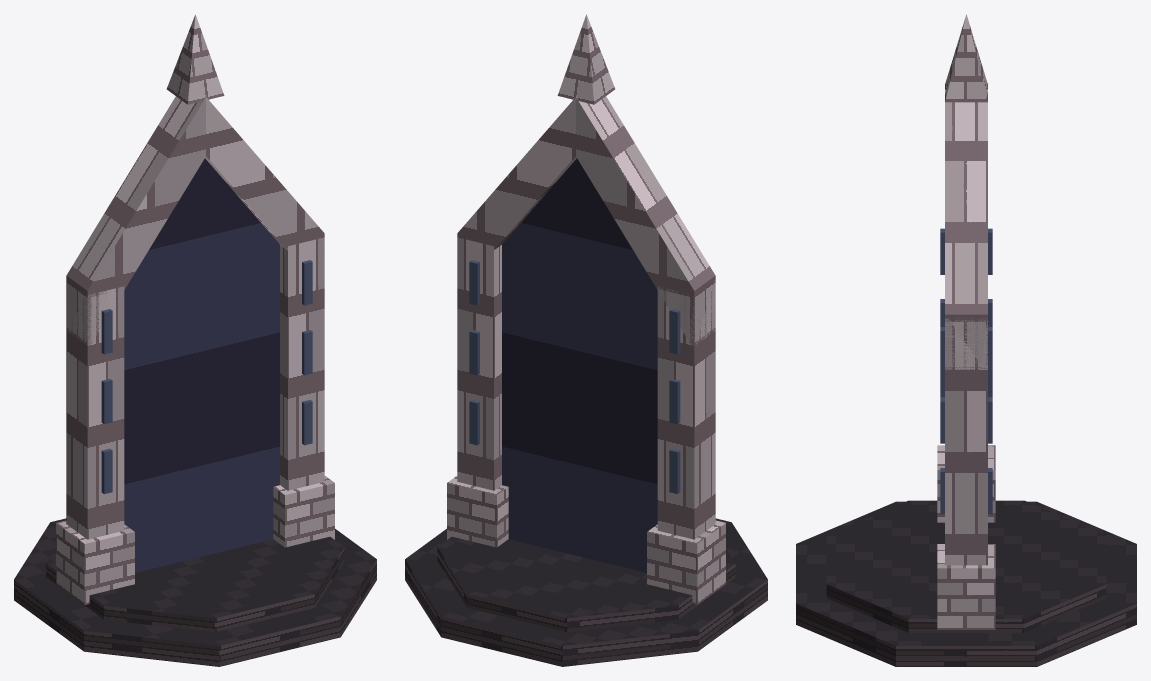
File: teleporter_A_ruhend.glb
3 views of the same model, side by side, from view 1: azimuth 30°, elevation 25°; view 2: azimuth 150°, elevation 25°; view 3: azimuth 270°, elevation 25° (orthographic).
Visible parts, largest first — view 1: body, glow; view 2: body, glow; view 3: body.
Part boxes in pixels (x1,y1,x2,y2): body: (14, 14, 376, 666); glow: (124, 158, 279, 572); body: (405, 14, 767, 666); glow: (502, 158, 657, 572); body: (796, 14, 1136, 666).
Size of the model in its own units: 1.76 by 3.3 by 1.76.
Materials: 1 (1 with a texture image).
